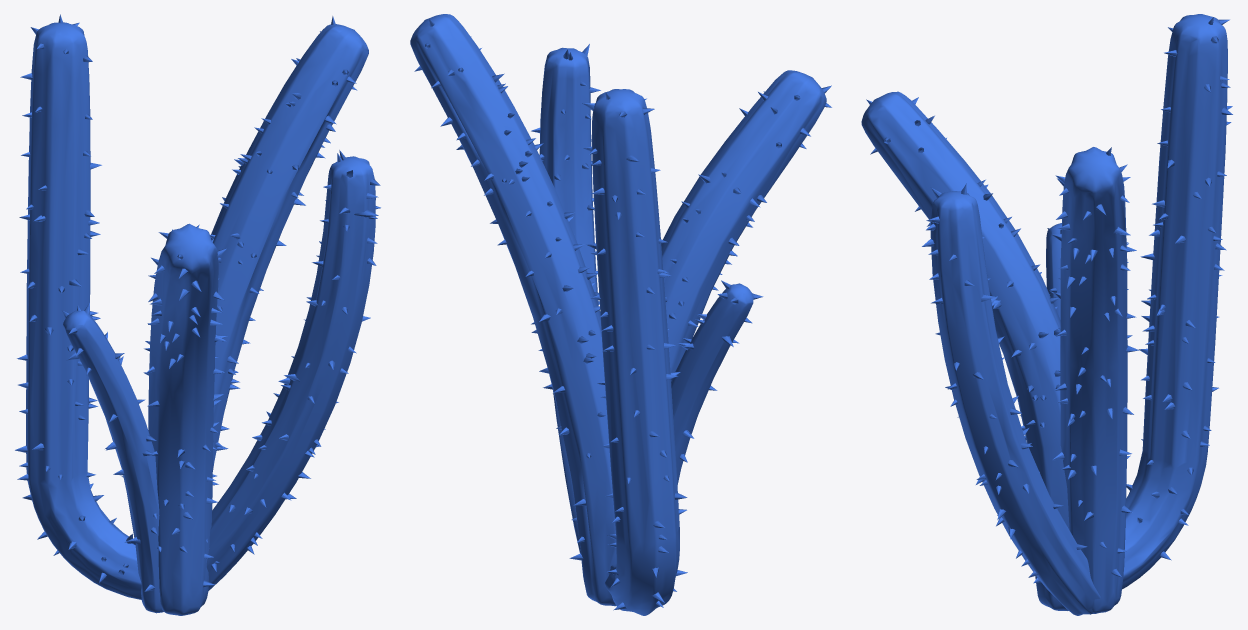
The model's file is Cactus05.fbx.
3 views of the same model, side by side, from view 1: azimuth 30°, elevation 25°; view 2: azimuth 150°, elevation 25°; view 3: azimuth 270°, elevation 25° (orthographic). The views are drawn at different scales.
Visible parts, largest first — view 1: Trunk_10; view 2: Trunk_10; view 3: Trunk_10.
Boxes of the visible parts, x1,y1,x2,y2 form: Trunk_10: (26, 22, 375, 615); Trunk_10: (410, 14, 826, 615); Trunk_10: (861, 14, 1227, 615).
Bounding box in the file's own units: 643 × 1072 × 636.
